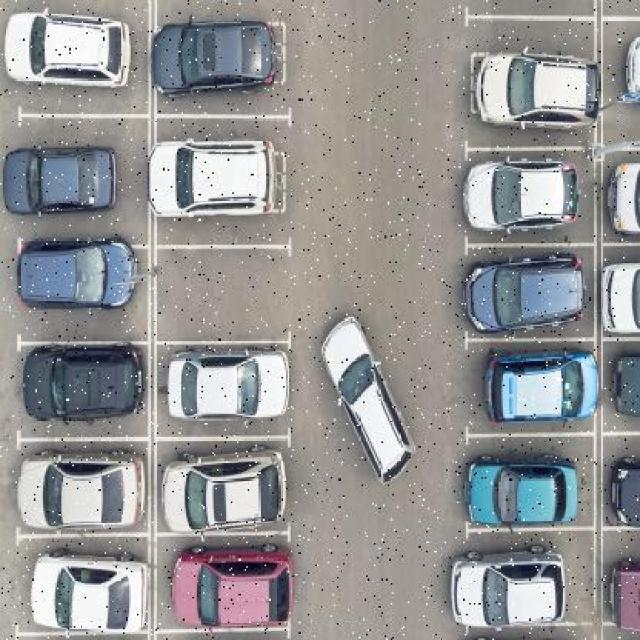Car: (12, 221, 138, 335), (6, 4, 141, 110), (16, 330, 149, 435), (12, 449, 153, 543), (337, 309, 408, 493), (458, 239, 587, 338), (447, 536, 578, 632), (146, 131, 286, 220), (1, 131, 121, 234), (166, 341, 298, 432), (173, 548, 302, 640), (460, 146, 589, 238), (461, 442, 584, 538), (159, 456, 292, 544), (23, 552, 149, 640), (155, 9, 279, 98), (480, 347, 600, 438), (474, 50, 600, 132), (606, 450, 640, 541), (605, 159, 640, 245), (601, 264, 640, 341), (608, 345, 640, 431), (604, 564, 640, 640), (624, 41, 640, 106)
Empty: (162, 250, 295, 335)
